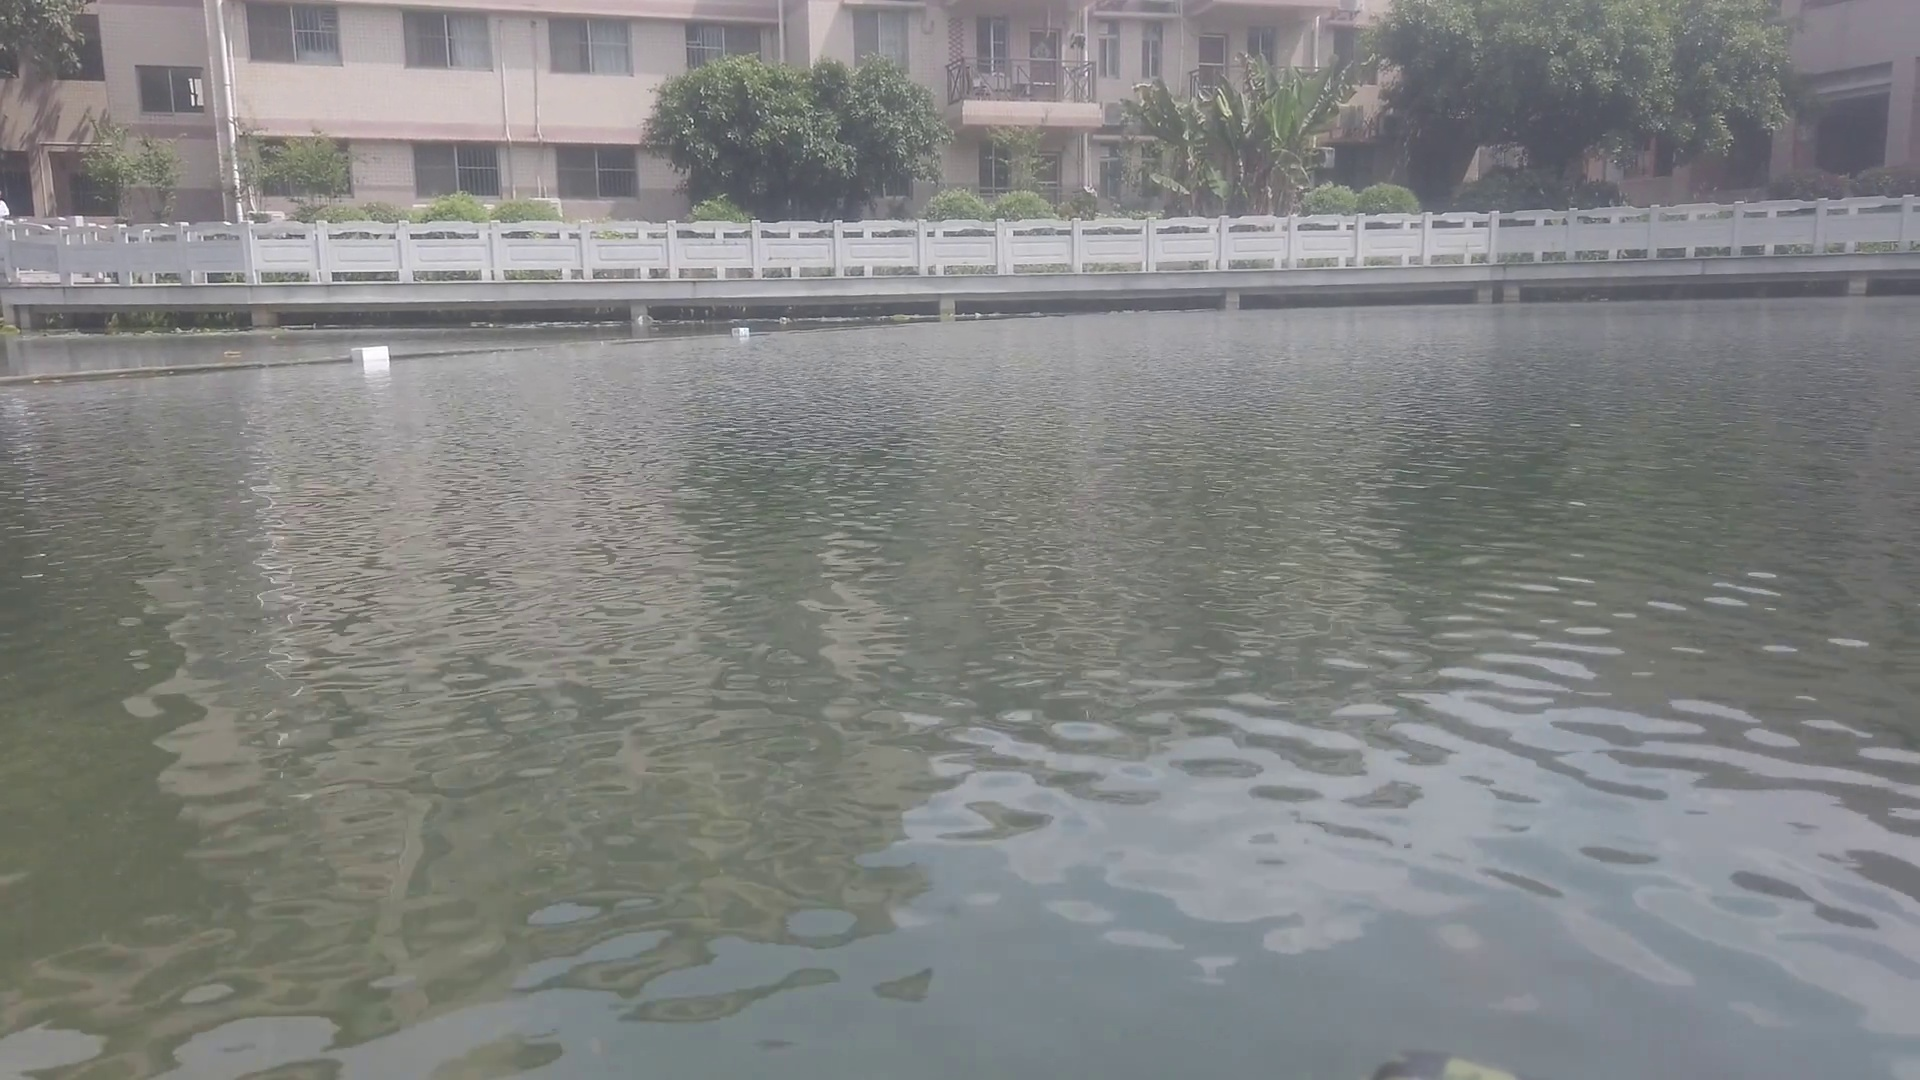carton: (351, 345, 392, 365), (727, 326, 760, 340)
